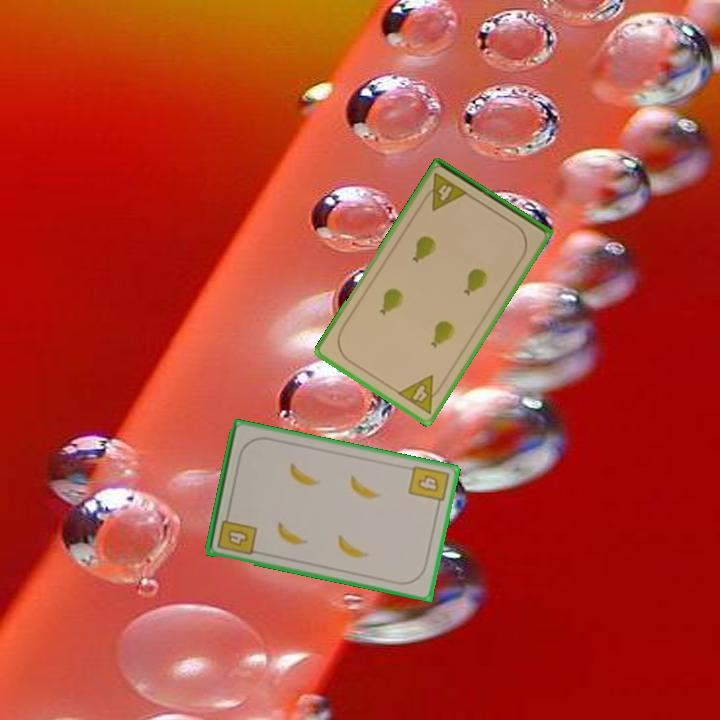4b: (405, 462, 452, 511), (214, 509, 260, 558)
4p: (394, 371, 447, 417), (418, 170, 471, 214)
